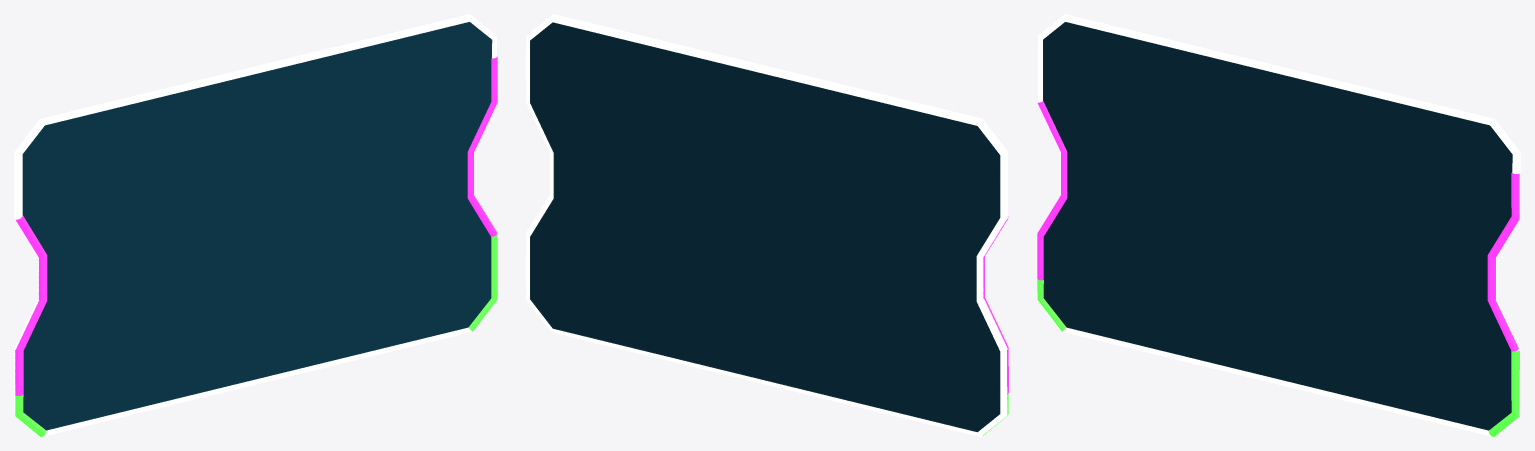
The model's file is MenuPanel.fbx.
The picture shows the model from 3 angles, left to right: view 1: azimuth 30°, elevation 25°; view 2: azimuth 150°, elevation 25°; view 3: azimuth 330°, elevation 25°; orthographic projection.
Parts seen in each view (by area): view 1: Panel_Base, Panel_Outline, Panel_OutlinePink, Panel_OutlineGreen; view 2: Panel_Base, Panel_Outline; view 3: Panel_Base, Panel_Outline, Panel_OutlinePink, Panel_OutlineGreen.
Boxes of the visible parts, box(x1,y1,x2,y2) form: Panel_Base: box(22, 22, 492, 430); Panel_Outline: box(14, 14, 496, 436); Panel_OutlinePink: box(15, 56, 497, 395); Panel_OutlineGreen: box(15, 234, 497, 436); Panel_Base: box(530, 22, 1000, 432); Panel_Outline: box(526, 14, 1007, 436); Panel_Base: box(1043, 22, 1512, 430); Panel_Outline: box(1038, 14, 1520, 436); Panel_OutlinePink: box(1037, 101, 1519, 351); Panel_OutlineGreen: box(1037, 279, 1519, 436).
Size of the model in its own units: 162 by 102 by 3.09.
